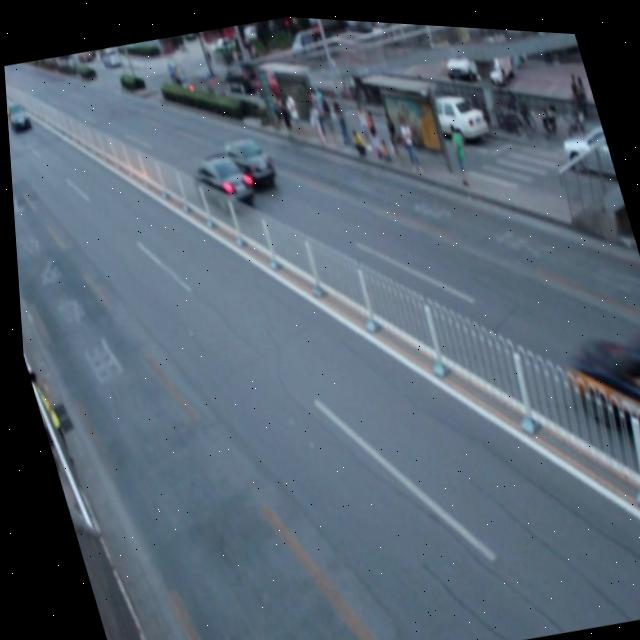car: (553, 309, 640, 469), (183, 144, 255, 217), (207, 126, 278, 197)
